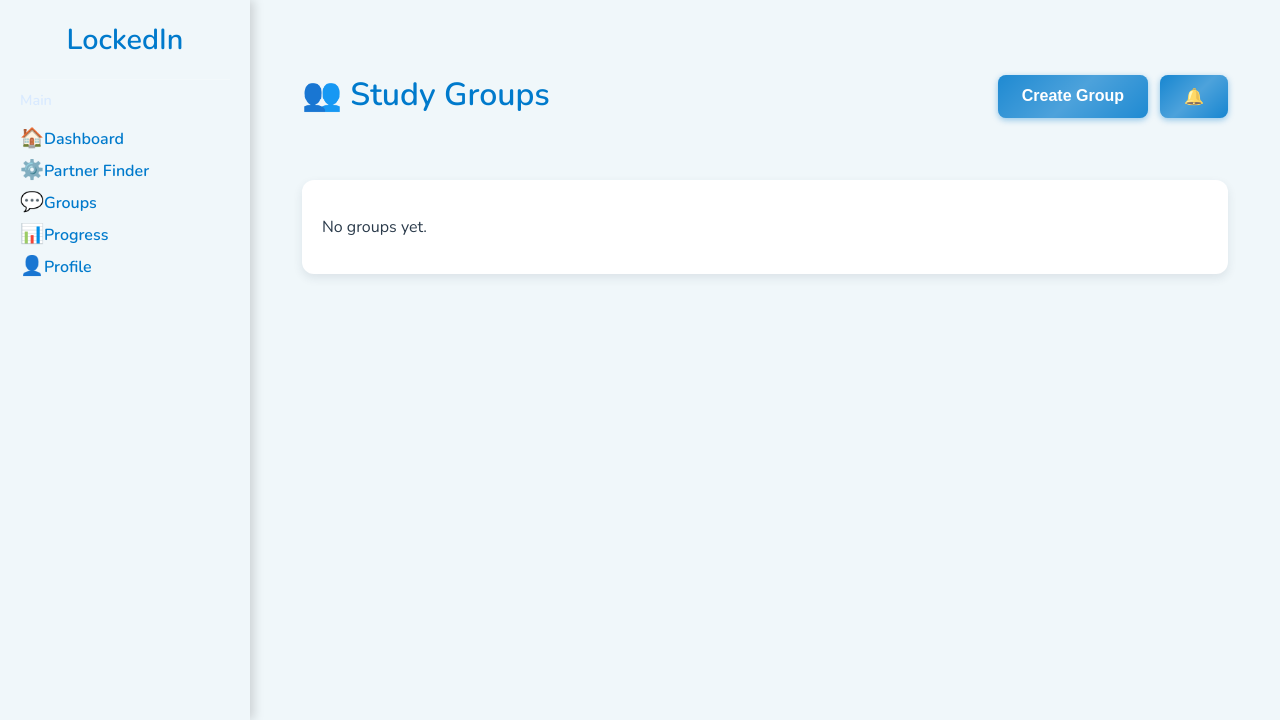
Test: GroupsPage › shows no friends message when no friends available
The width and height of the screenshot is (1280, 720).
Note: Open modal and go to step 2
Click the button "Create Group".
click(1073, 96)  # box [998,75,1148,118]
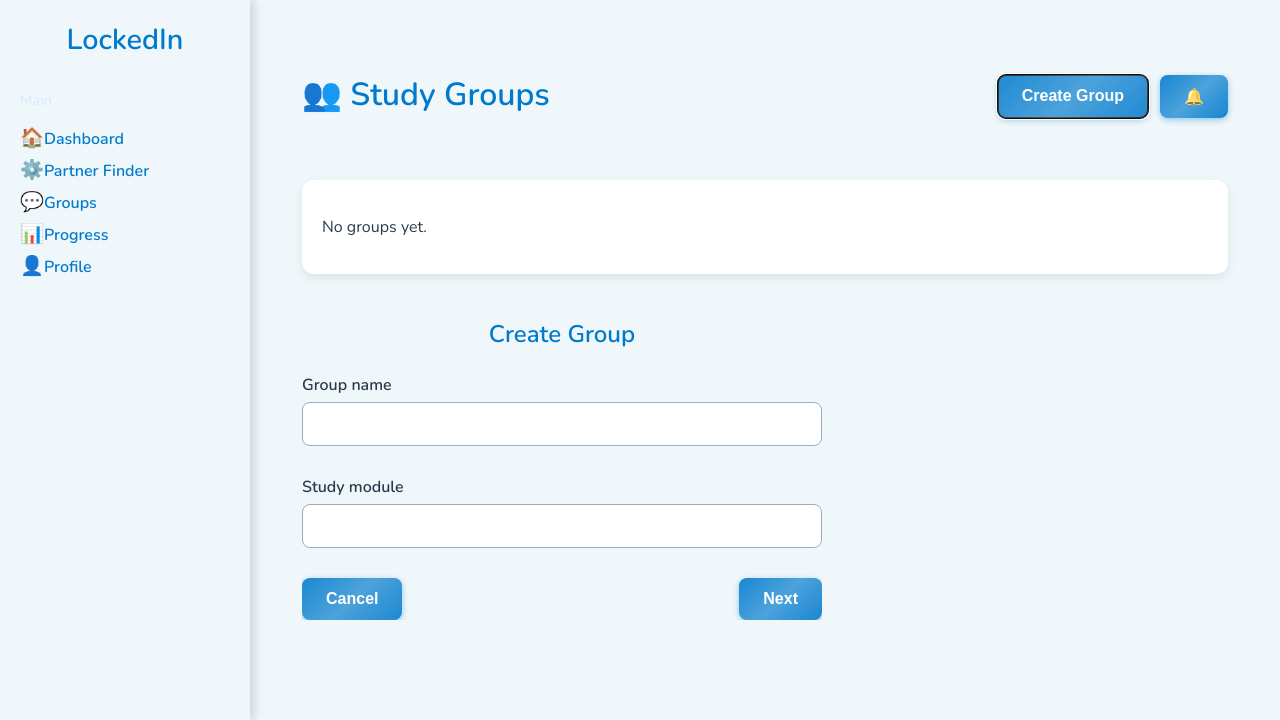
Click the button "Next".
click(781, 599)  # box [739,578,822,620]
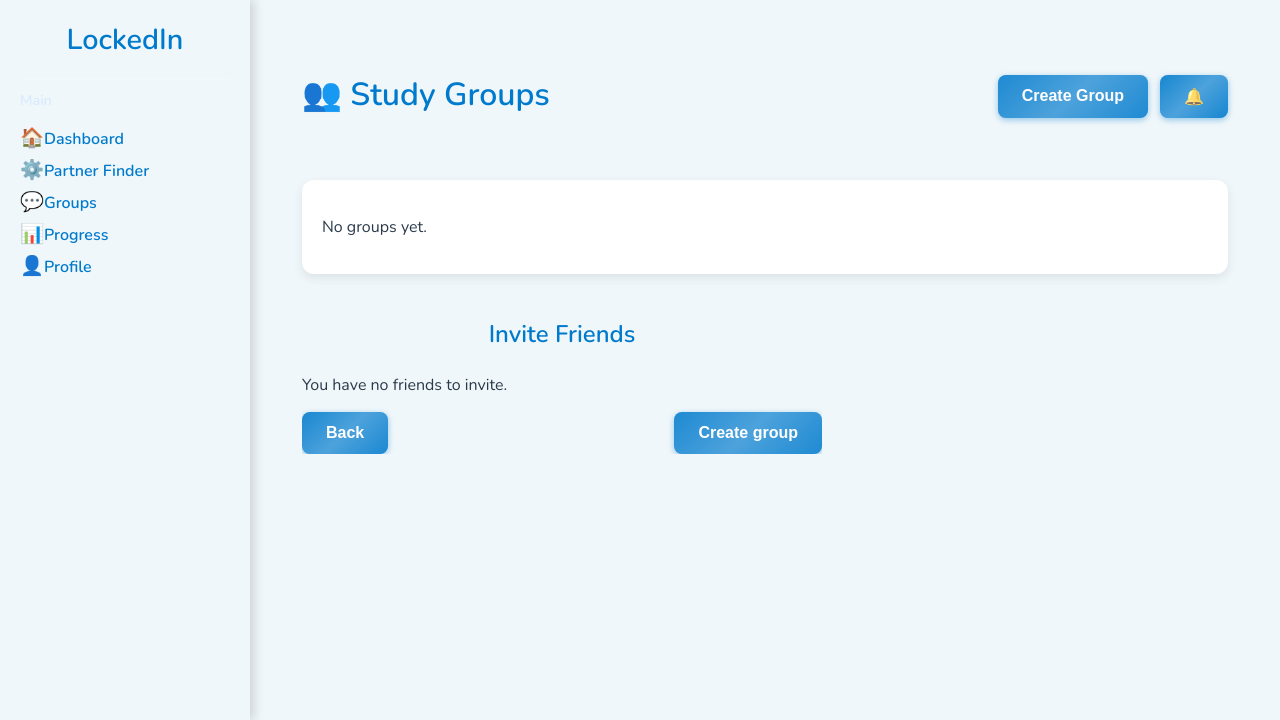
Now the text "You have no friends to invite." is shown, box [302,374,507,396]
